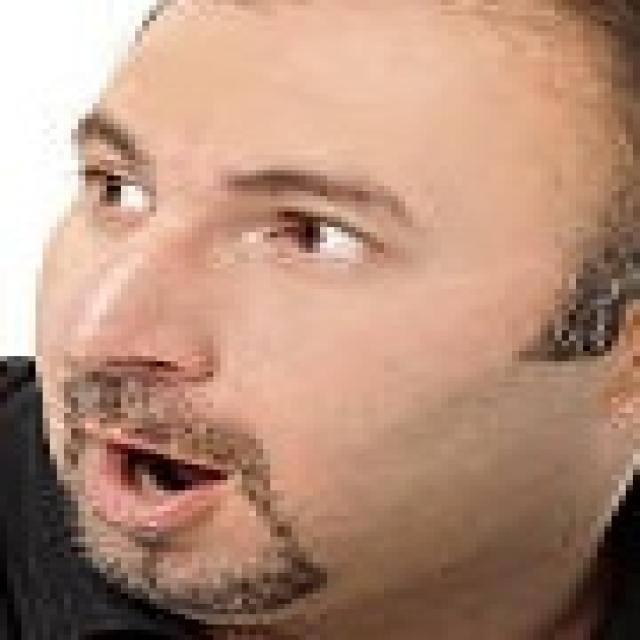Anxiety: (34, 2, 622, 626)
